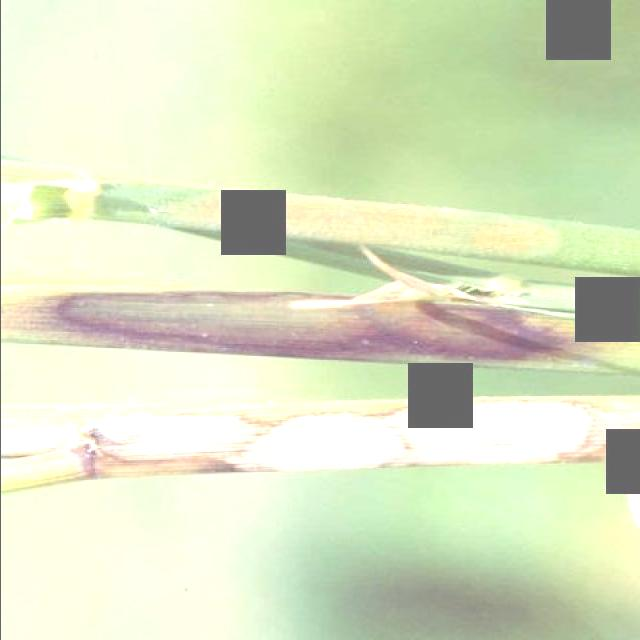Bacterial_Leaf_Blight: (1, 400, 640, 474), (56, 290, 570, 362), (182, 188, 557, 264)
